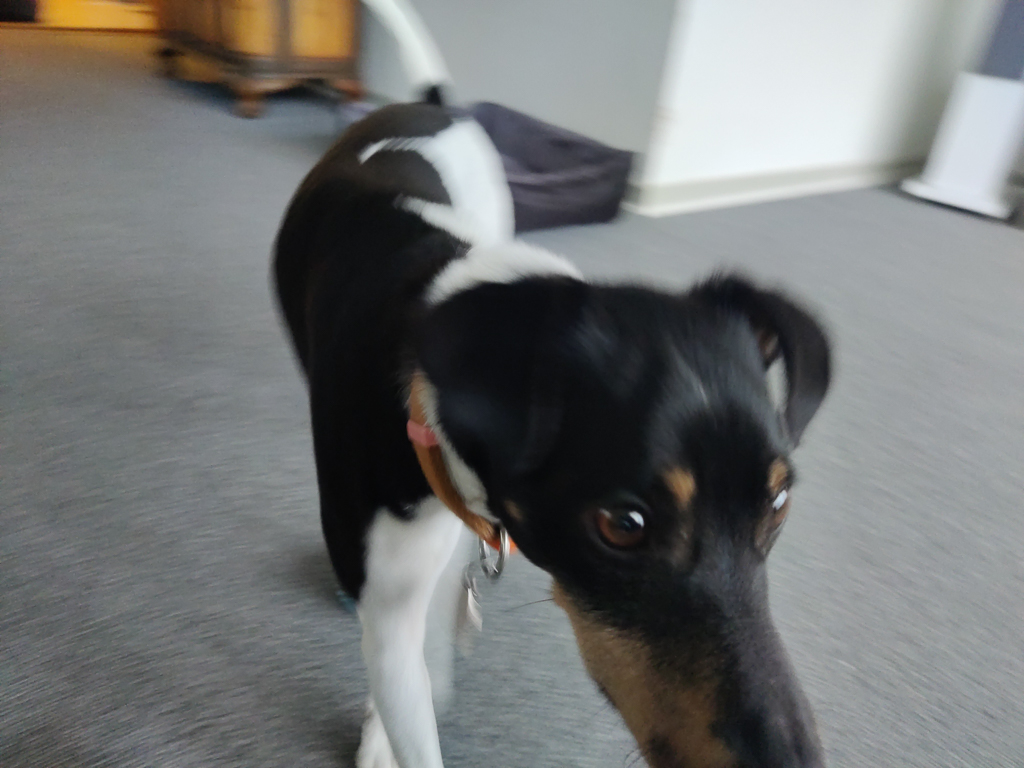Dog: (252, 0, 882, 768)
